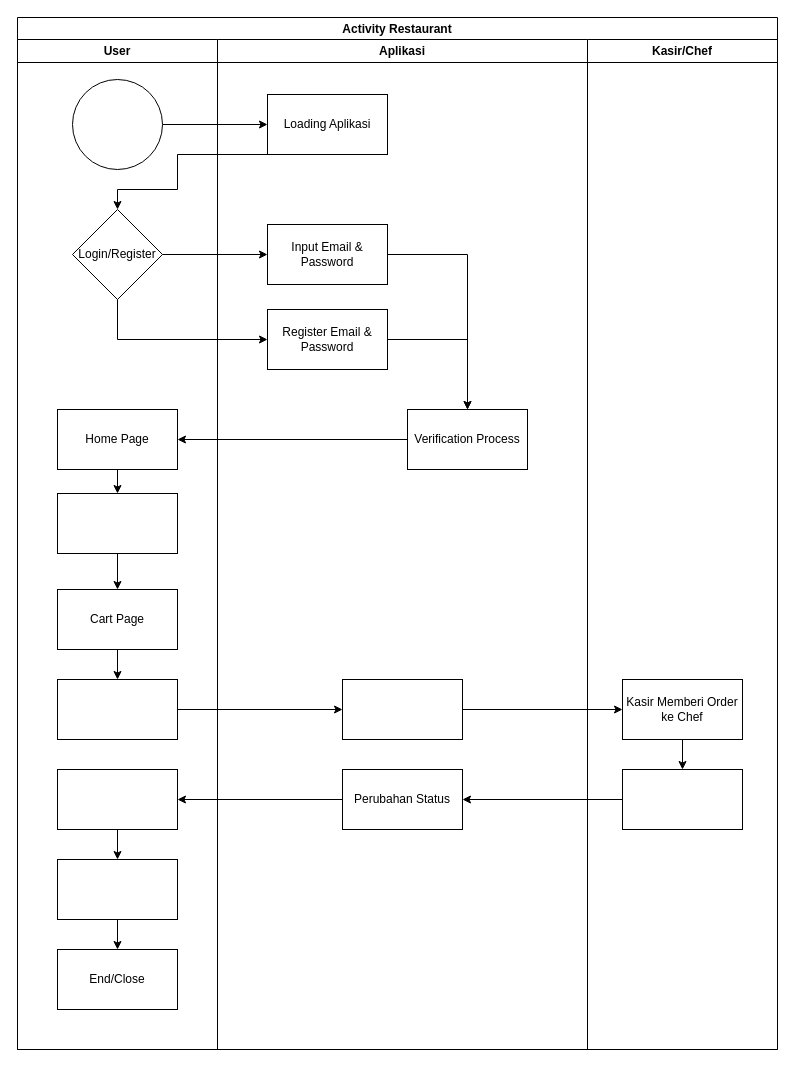
The diagram is 795 pixels wide and 1067 high, and some of its shapes have lost their labels. Here are the shapes that lost their labels. From the top down, the box of each, then its label:
(72, 78, 162, 170): Open App
(56, 492, 178, 554): Seleksi Nomor Meja & Menu
(56, 678, 178, 740): Checkout
(342, 678, 462, 740): Input Ke Sistem
(56, 768, 178, 830): User Pergi ke tempat
(622, 768, 742, 830): Makanan Sudah Siap
(56, 858, 178, 920): Pembayaran
